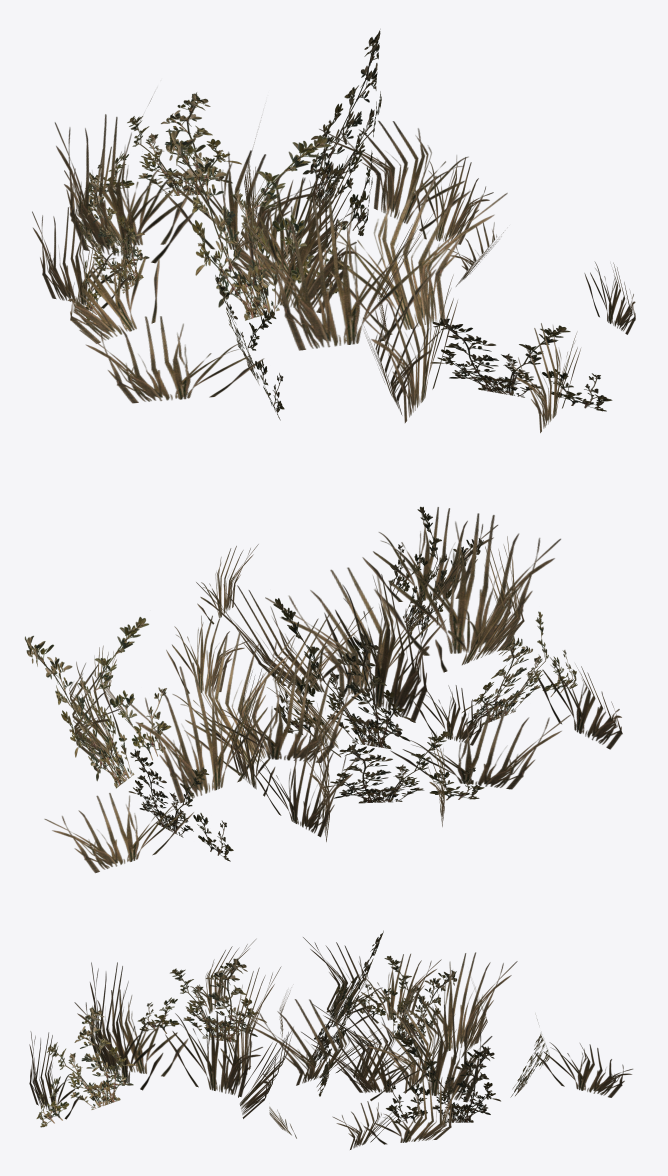
File: desert_grass1.glb
The picture shows the model from 3 angles, top to bottom: view 1: azimuth 30°, elevation 25°; view 2: azimuth 150°, elevation 25°; view 3: azimuth 270°, elevation 25°; orthographic projection. The views are drawn at different scales.
Visible parts, largest first — view 1: Group; view 2: Group; view 3: Group.
Boxes of the visible parts, bbox=[...] form: Group: bbox=[32, 29, 635, 432]; Group: bbox=[24, 506, 622, 872]; Group: bbox=[29, 930, 632, 1149].
Size of the model in its own units: 3.34 by 1.08 by 4.76.
Materials: 1 (1 with a texture image).
